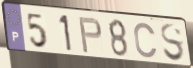1: (58, 14, 74, 54)
5: (26, 12, 50, 49)
8: (108, 18, 130, 58)
C: (132, 21, 159, 60)
P: (77, 16, 104, 55)
S: (159, 23, 187, 64)
